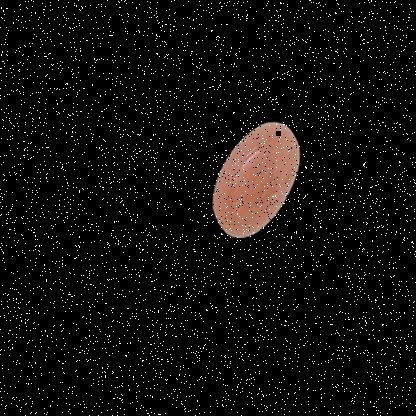opiqutan: (201, 100, 320, 254)
